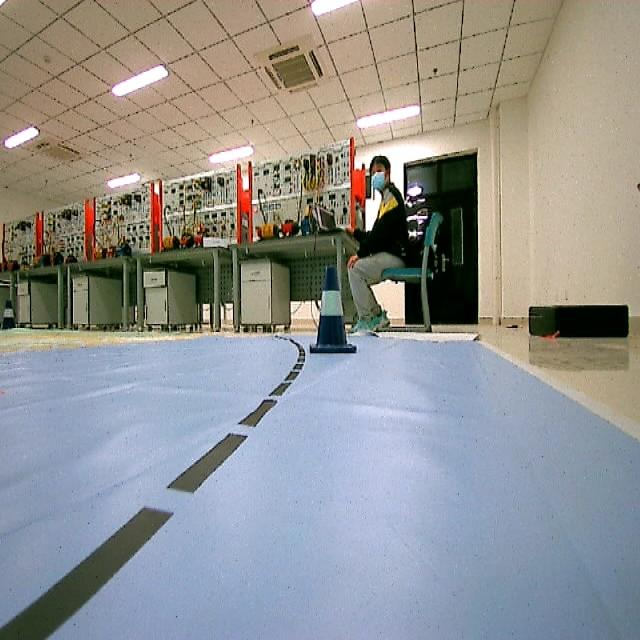obstacle: (310, 266, 362, 358)
